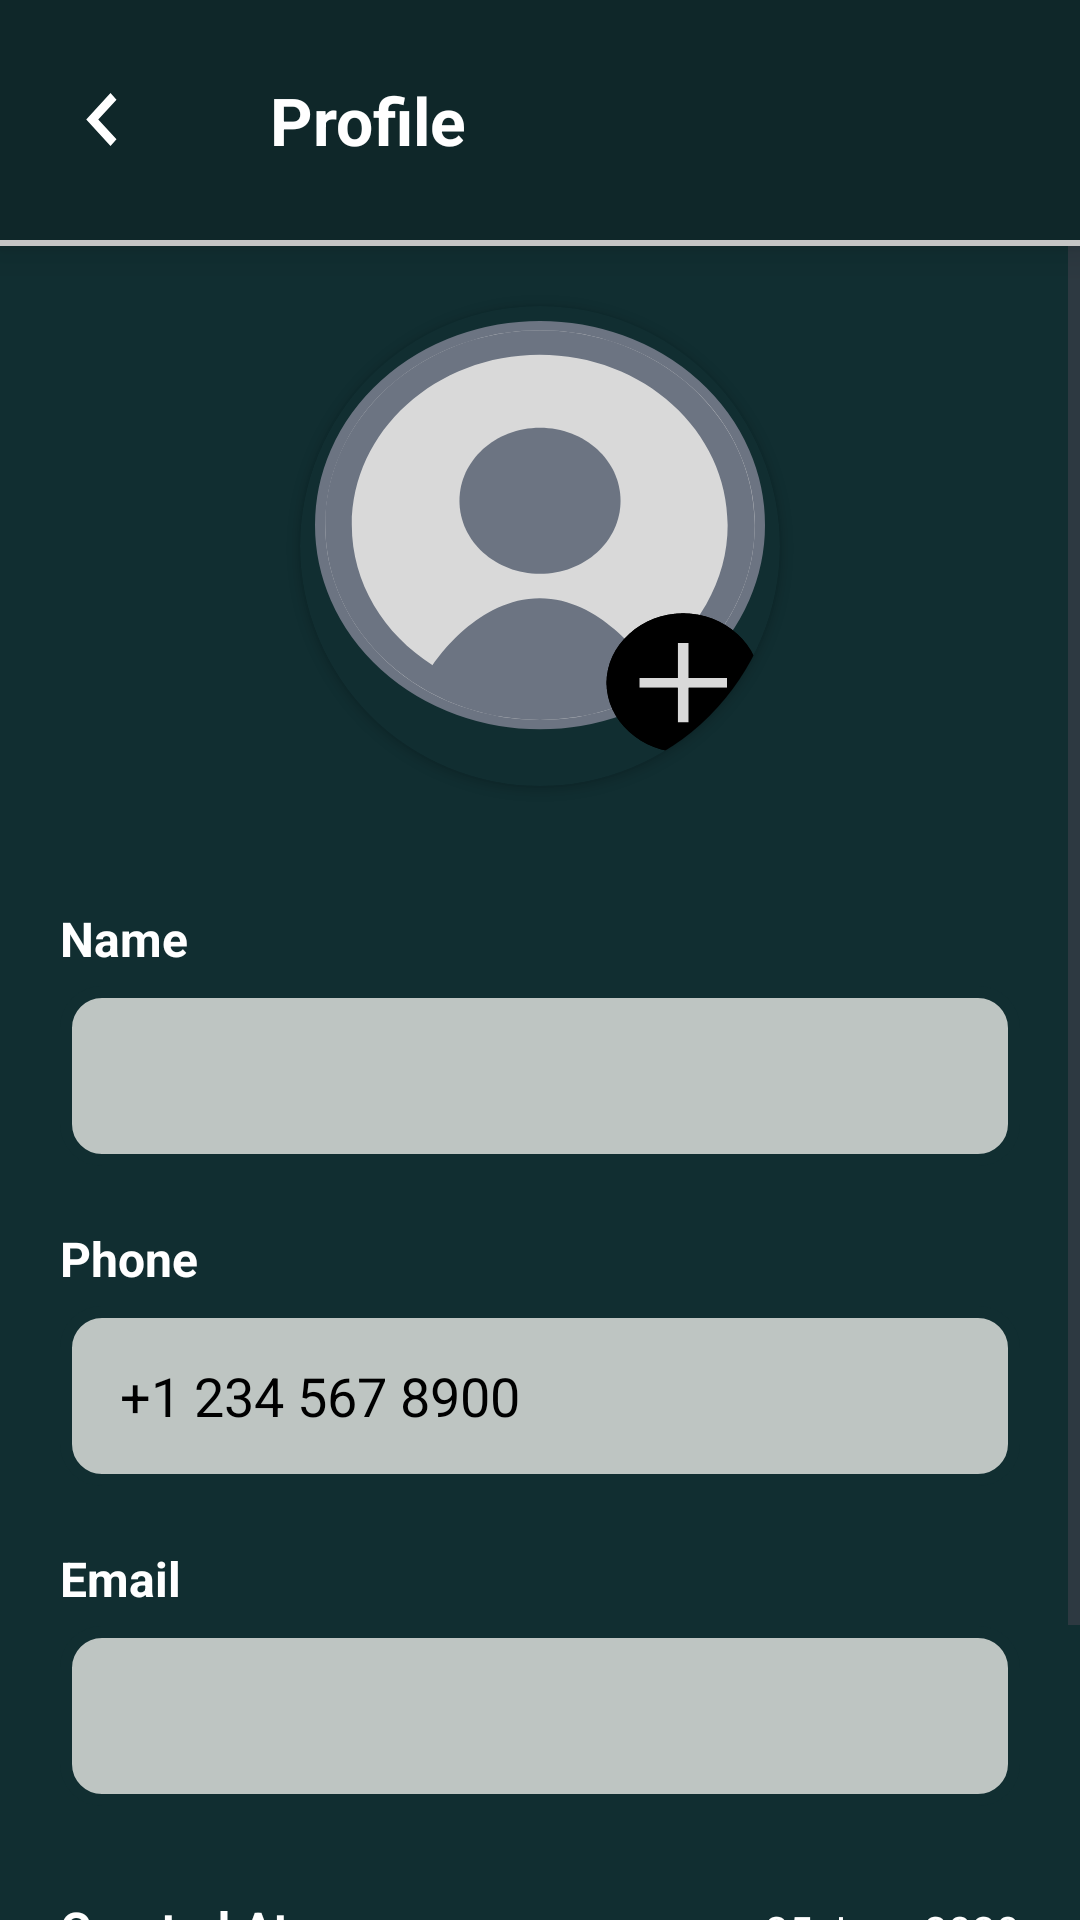

Where to tap for icons on this 1080px x 1920px app screen, as point (x, y):
leftpointing arrow: point (101, 119)
